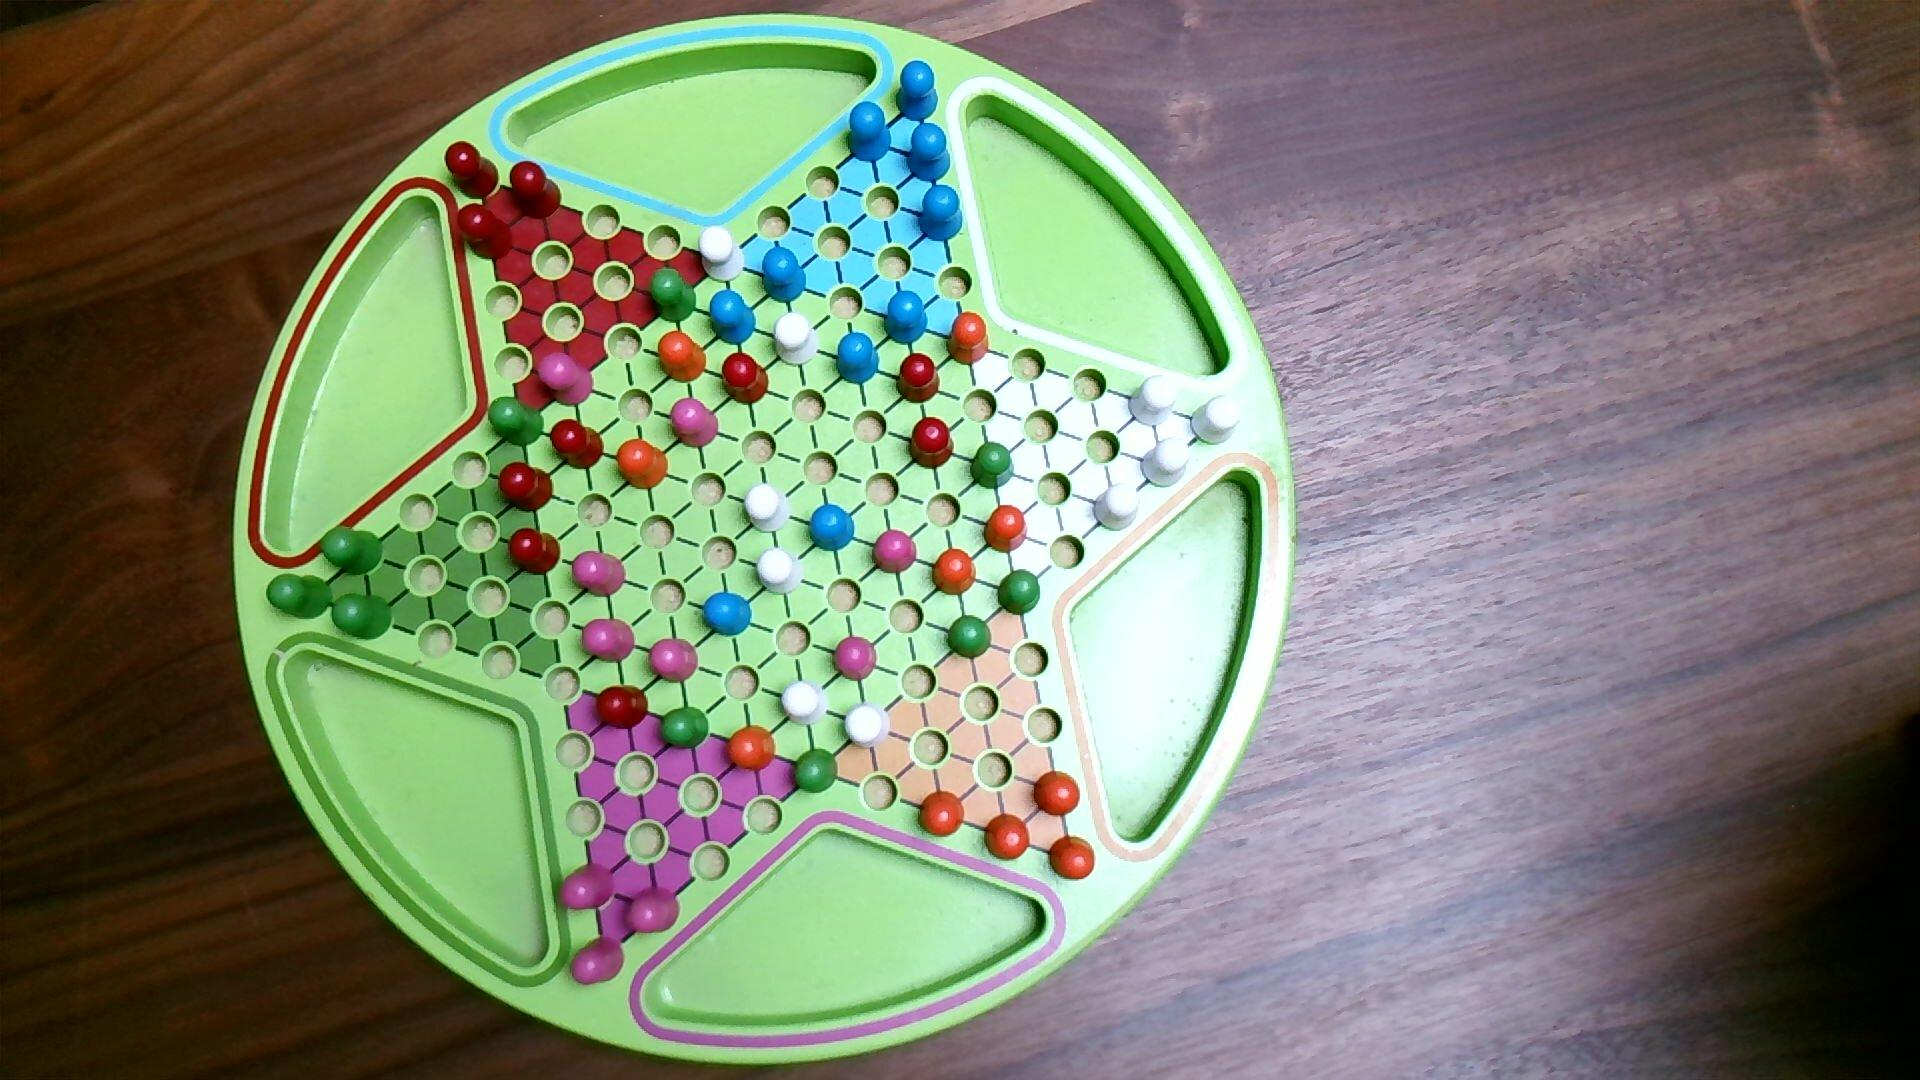B: (847, 100, 893, 165), (906, 123, 953, 185), (895, 59, 940, 124), (918, 183, 965, 244), (709, 289, 758, 347), (761, 245, 808, 305), (836, 330, 882, 386), (884, 290, 930, 347), (702, 591, 753, 638), (808, 502, 856, 553)
G: (319, 525, 386, 578), (266, 571, 334, 622), (331, 591, 394, 644), (487, 396, 546, 450), (647, 265, 698, 324), (659, 705, 711, 754), (793, 746, 840, 796), (997, 568, 1043, 618), (945, 615, 993, 662), (971, 440, 1015, 491)
O: (616, 436, 670, 492), (658, 328, 708, 385), (724, 724, 778, 775), (945, 310, 992, 368), (1033, 769, 1083, 819), (918, 789, 967, 840), (931, 545, 978, 597), (982, 502, 1030, 555), (984, 812, 1033, 862), (1048, 835, 1097, 884)
R: (456, 202, 516, 262), (443, 140, 501, 202), (510, 160, 563, 222), (498, 460, 556, 516), (550, 418, 607, 471), (508, 526, 563, 578), (721, 351, 771, 407), (595, 684, 651, 732), (909, 415, 956, 471), (895, 352, 942, 406)
R2: (537, 349, 596, 409), (558, 860, 618, 913), (622, 885, 683, 938), (568, 934, 626, 988), (571, 549, 628, 600), (582, 617, 638, 666), (670, 397, 720, 450), (647, 637, 700, 684), (870, 527, 919, 578), (832, 634, 880, 684)
W: (1189, 392, 1244, 447), (1127, 373, 1180, 430), (698, 223, 746, 284), (1141, 435, 1192, 491), (773, 313, 820, 369), (742, 483, 793, 535), (843, 700, 893, 752), (1093, 480, 1141, 534), (756, 546, 804, 597), (781, 679, 829, 728)
